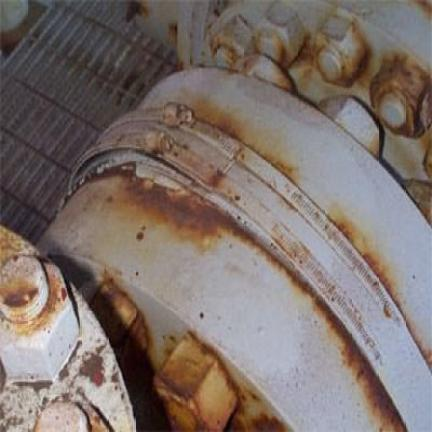besi_tidak_karat: (318, 95, 380, 156), (234, 55, 293, 91)
karat: (40, 69, 431, 431), (156, 334, 235, 431), (0, 255, 48, 321), (92, 278, 136, 343)
